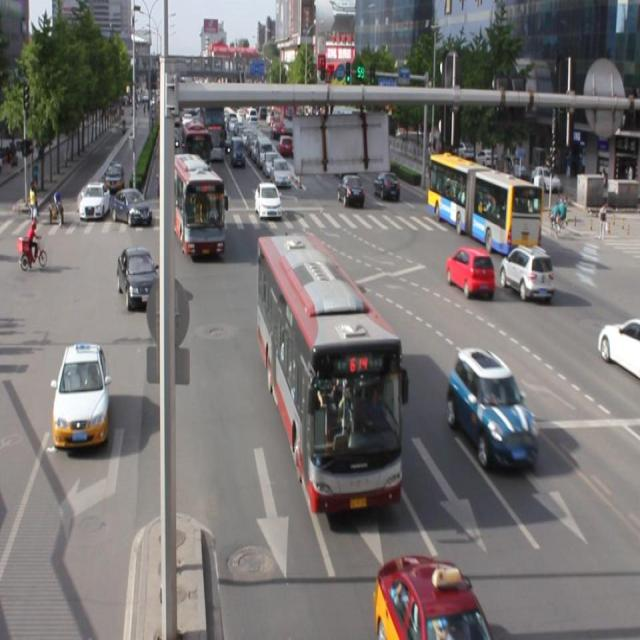car: (446, 344, 537, 468), (372, 551, 491, 640), (53, 340, 110, 448), (498, 242, 554, 302), (594, 316, 640, 379), (118, 245, 161, 308), (445, 244, 494, 296)
van: (258, 234, 402, 508), (429, 153, 542, 258), (172, 152, 225, 255)
